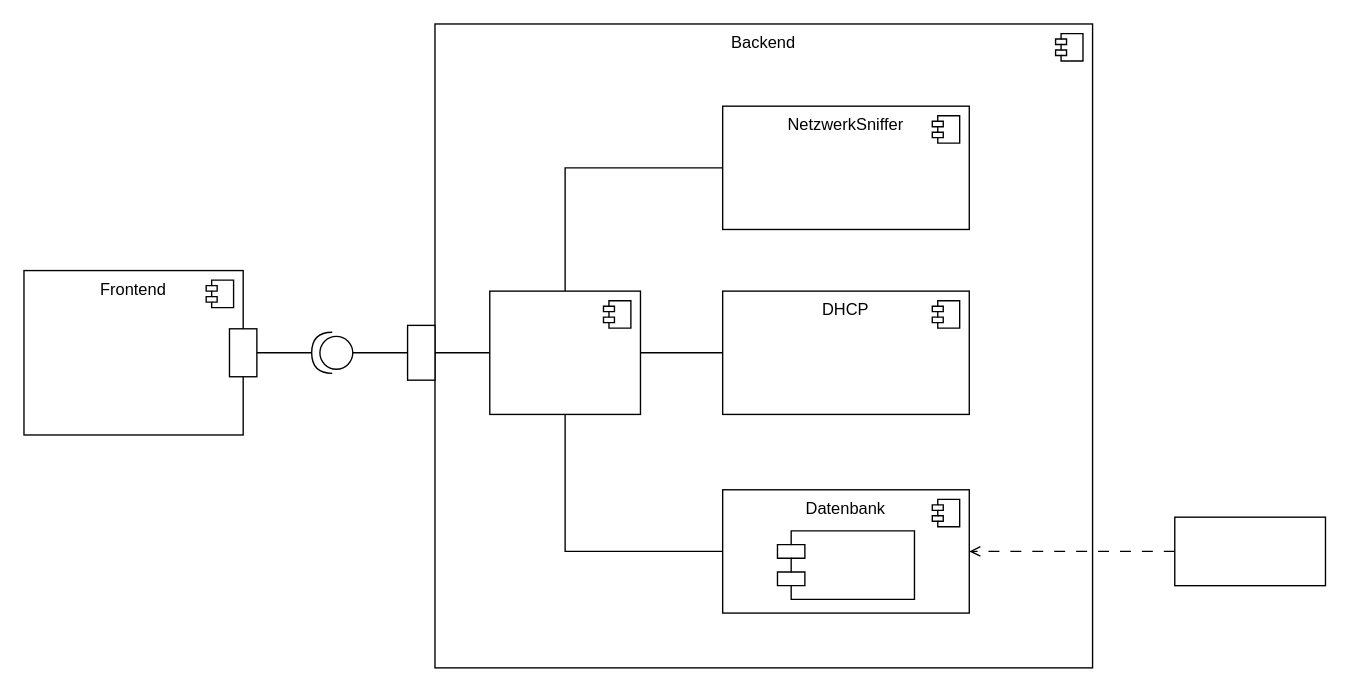
Image size: 1349x692. Some labels were removed from this diagram. The centre of each missing label's shape, as x and y in pixels:
"API" goes at (564,352).
"Paket" goes at (845,564).
"«artefact» SQLite" goes at (1249,551).
